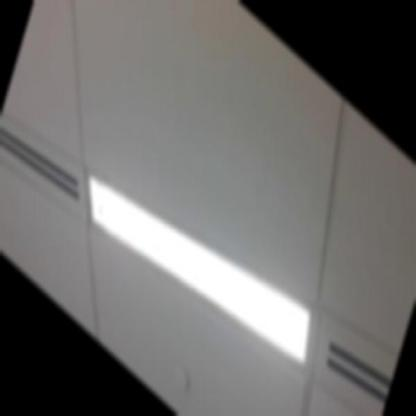light_on: (66, 102, 329, 415)
